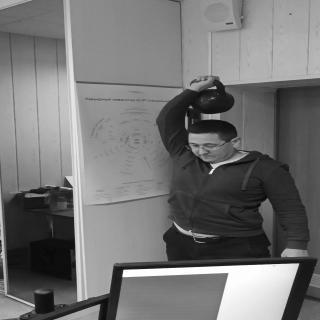girya: (189, 80, 236, 115)
